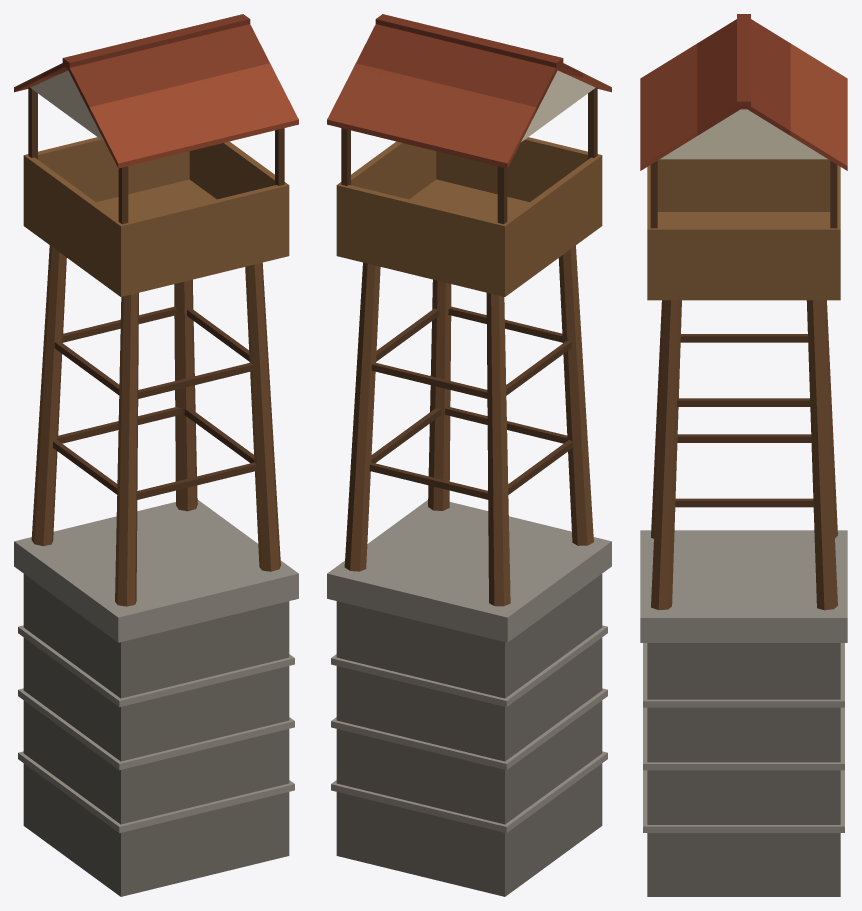
The model's file is watchtower.glb.
3 views of the same model, side by side, from view 1: azimuth 30°, elevation 25°; view 2: azimuth 150°, elevation 25°; view 3: azimuth 270°, elevation 25° (orthographic).
Visible parts, largest first — view 1: watchtower; view 2: watchtower; view 3: watchtower.
Boxes of the visible parts, x1,y1,x2,y2 form: watchtower: [14, 14, 298, 896]; watchtower: [327, 14, 611, 896]; watchtower: [640, 14, 847, 896].
Bounding box in the file's own units: 3 × 12.74 × 3.
